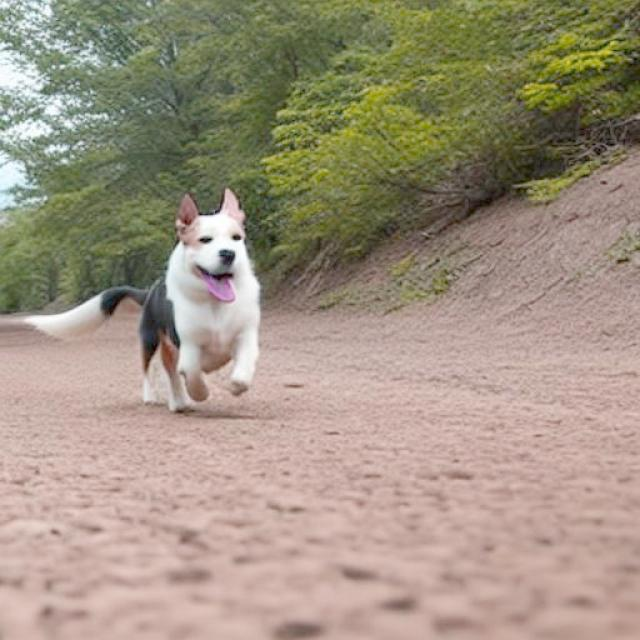Dog: (23, 187, 260, 413)
